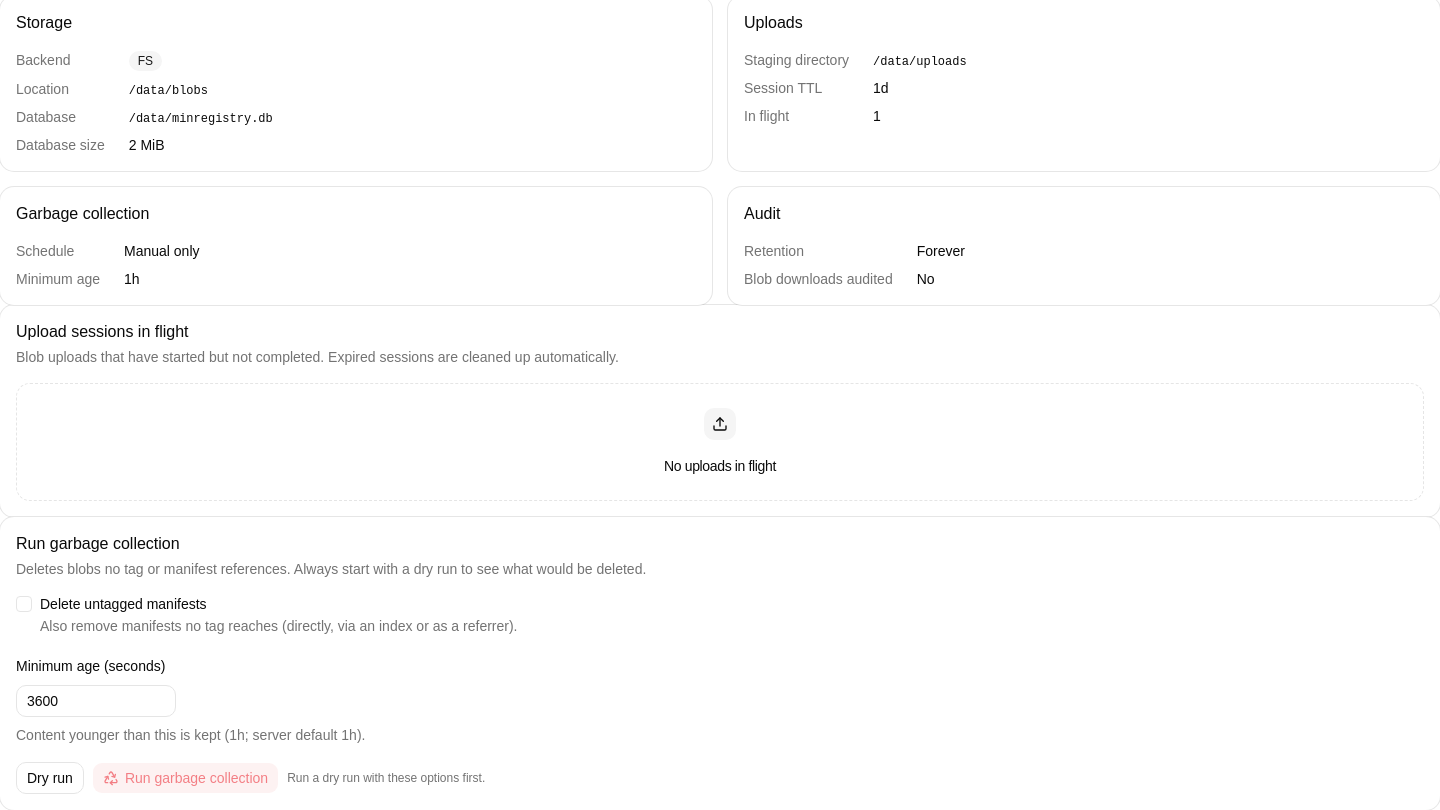
SystemPage › requires a dry run with the same options before running GC for real
The image size is (1440, 810).
(page scrolled)
Check: the button "Run garbage collection" is disabled, box [92,762,279,794]
Click the button "Dry run".
click(50, 778)  # box [16,762,84,794]
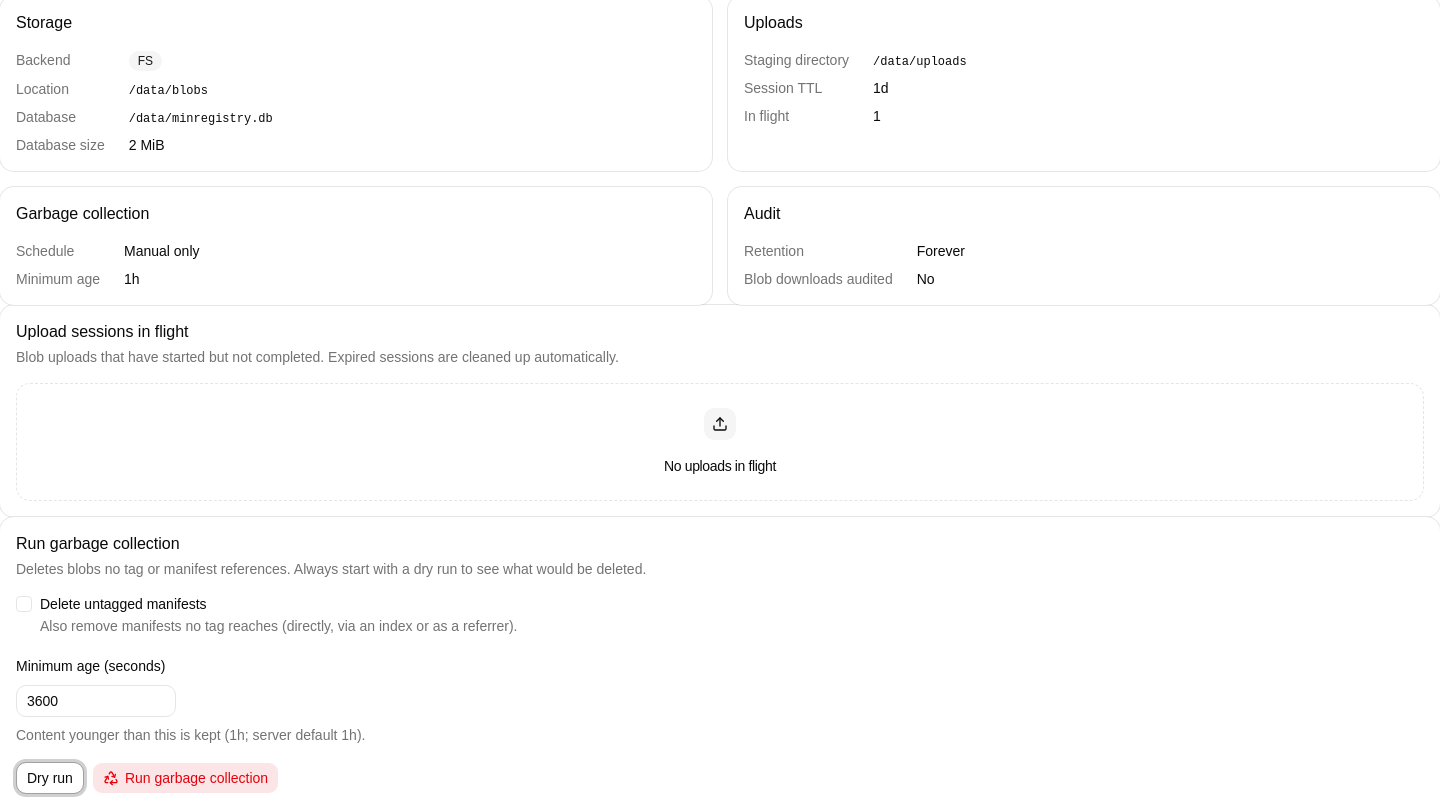
Check: the button "Run garbage collection" is enabled, box [92,762,279,794]
// Changing an option invalidates the dry run.
Click the checkbox named "delete untagged manifests".
click(24, 604)  # box [16,596,32,612]
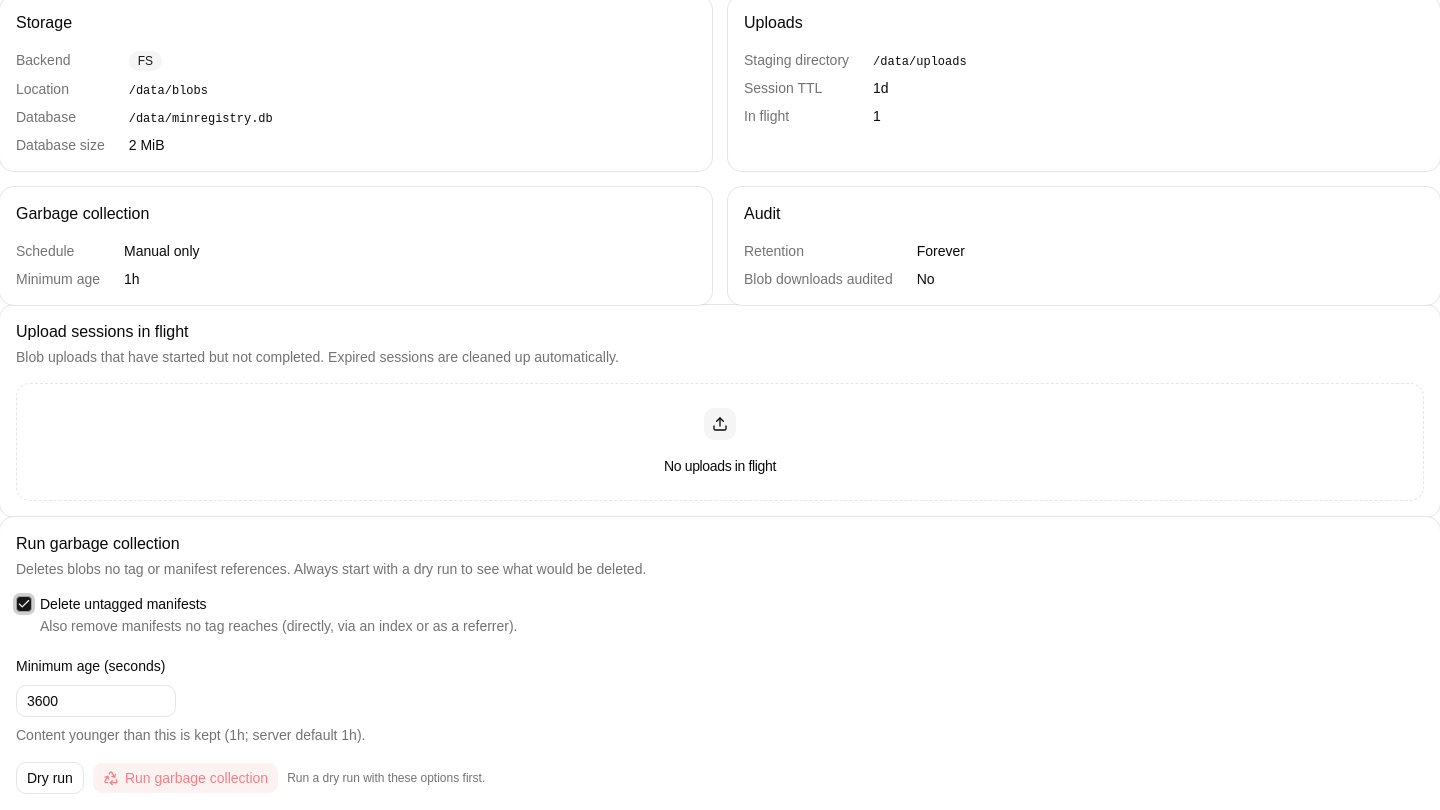
Check: the button "Run garbage collection" is disabled, box [92,762,279,794]
Click the button "Dry run".
click(50, 778)  # box [16,762,84,794]
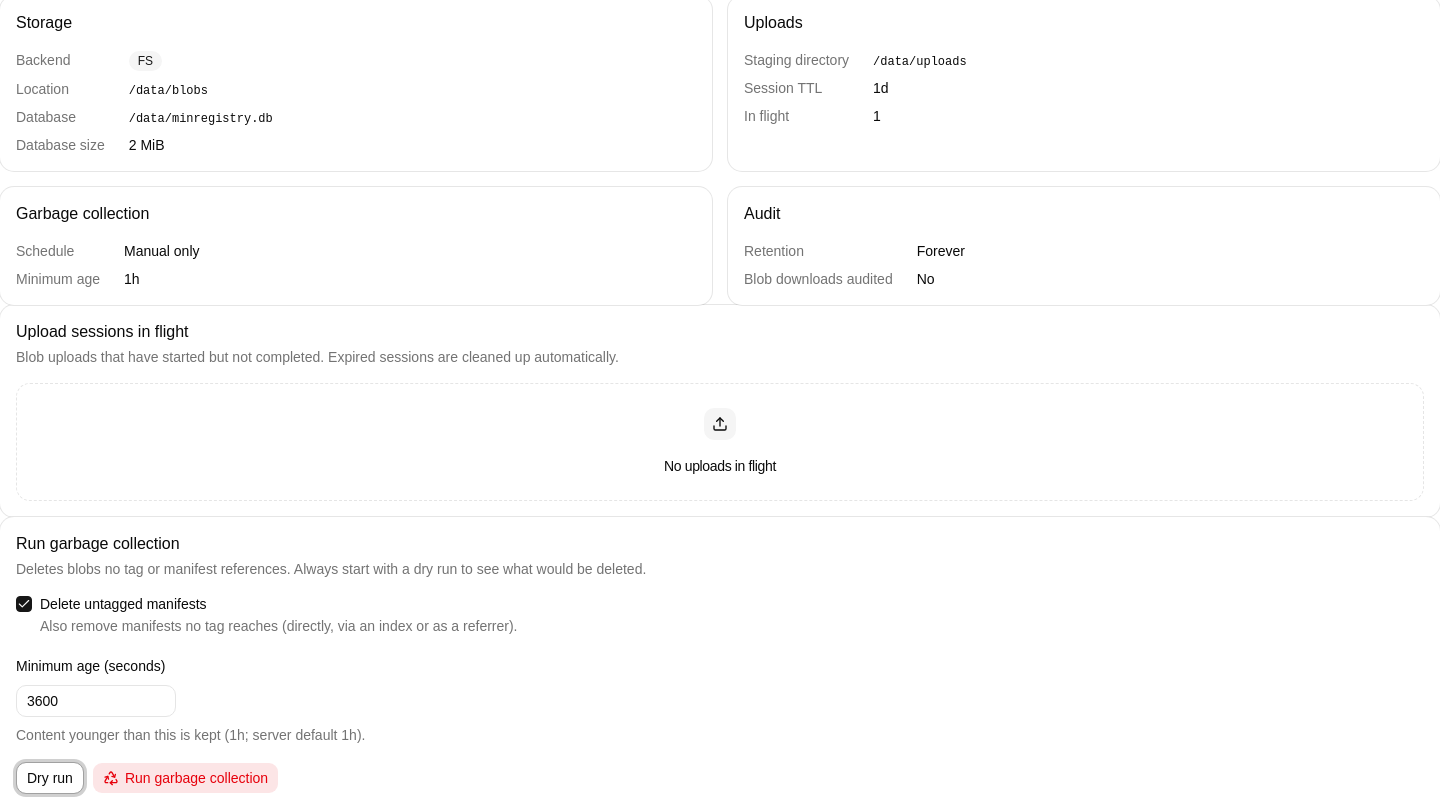
Check: the button "Run garbage collection" is enabled
Click the button "Run garbage collection".
click(186, 778)  # box [92,762,279,794]
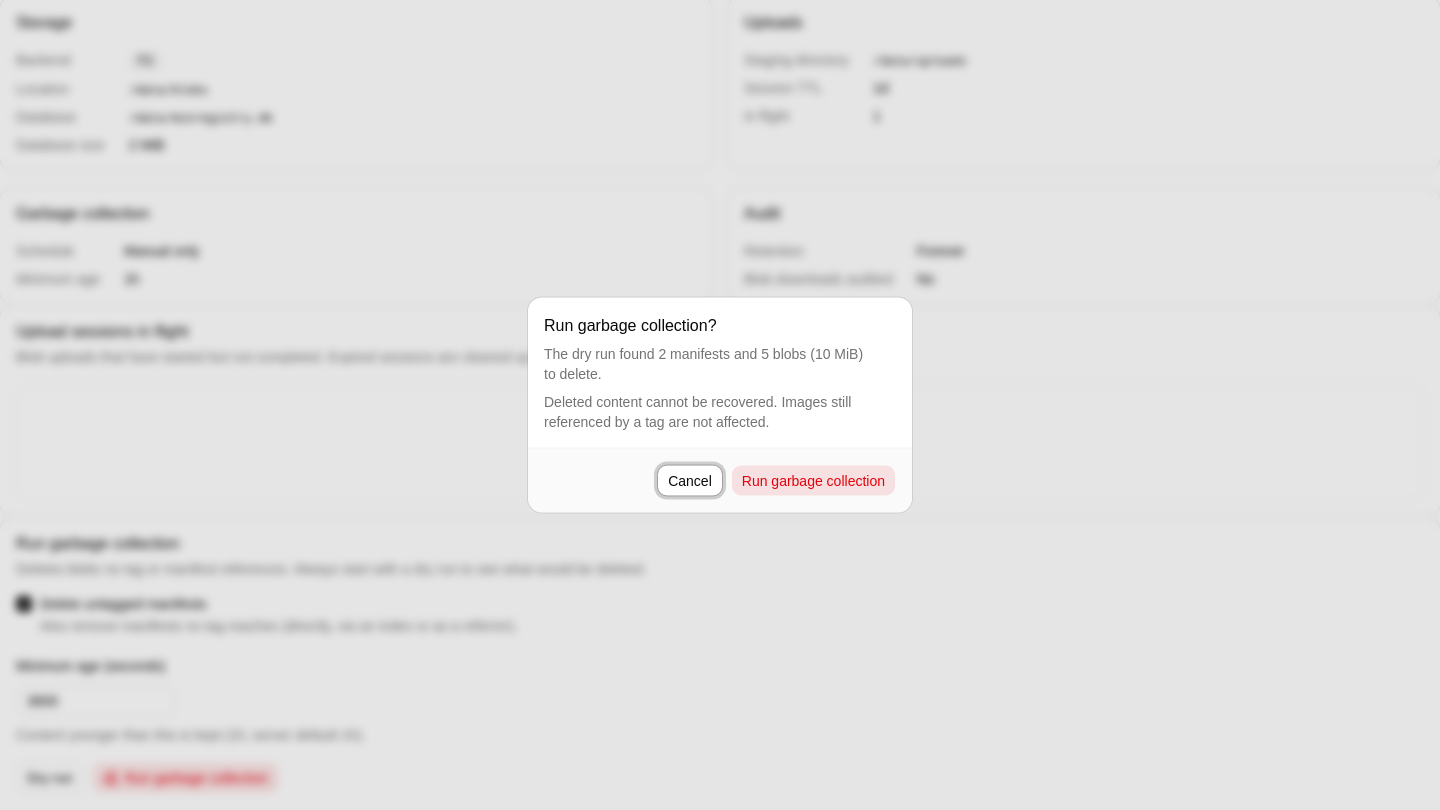
Check: the text "found 2 manifests and 5 blobs" is shown, box [544,344,896,384]
Click the button "Run garbage collection".
click(813, 480)  # box [731,464,896,496]
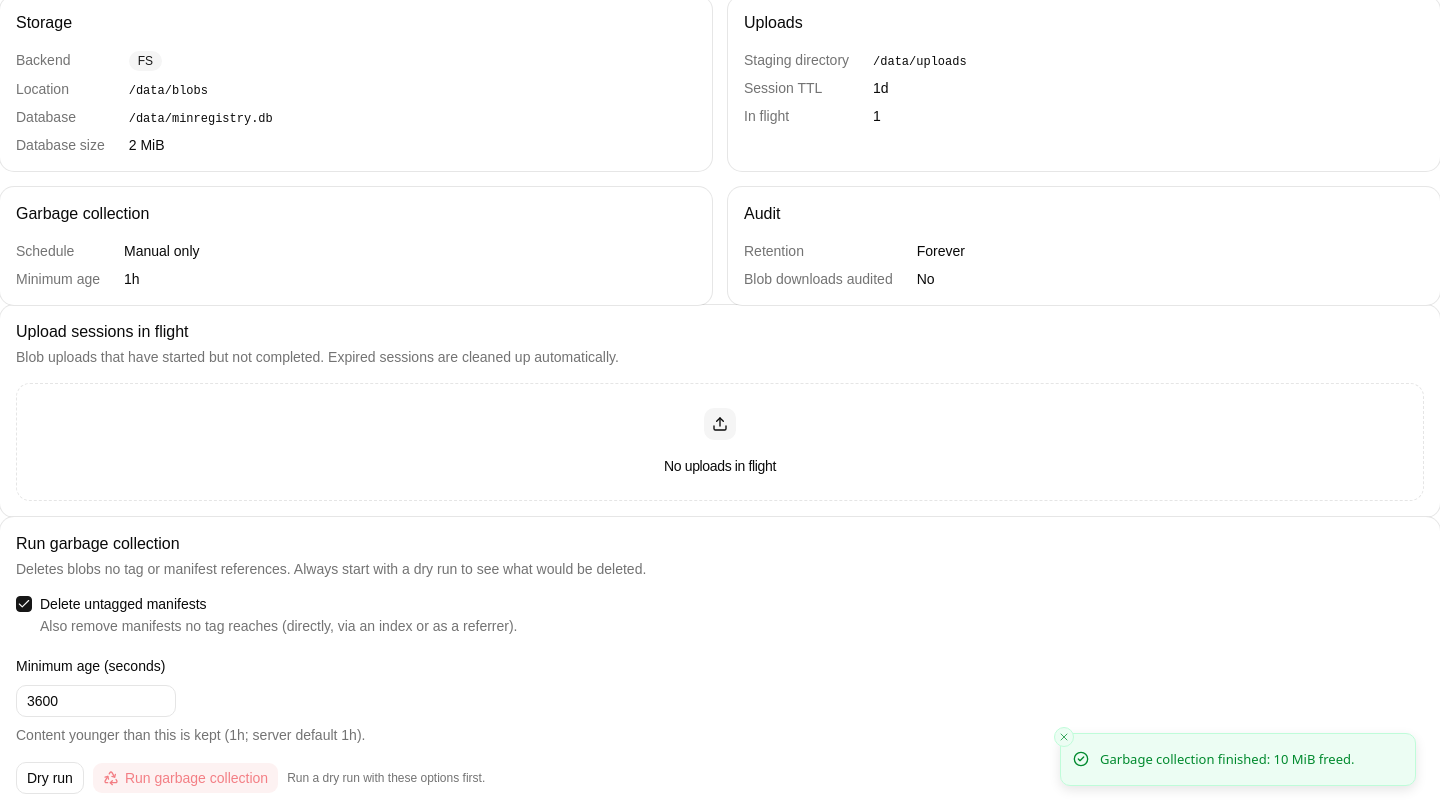
Check: the button "Run garbage collection" is disabled, box [92,762,279,794]
